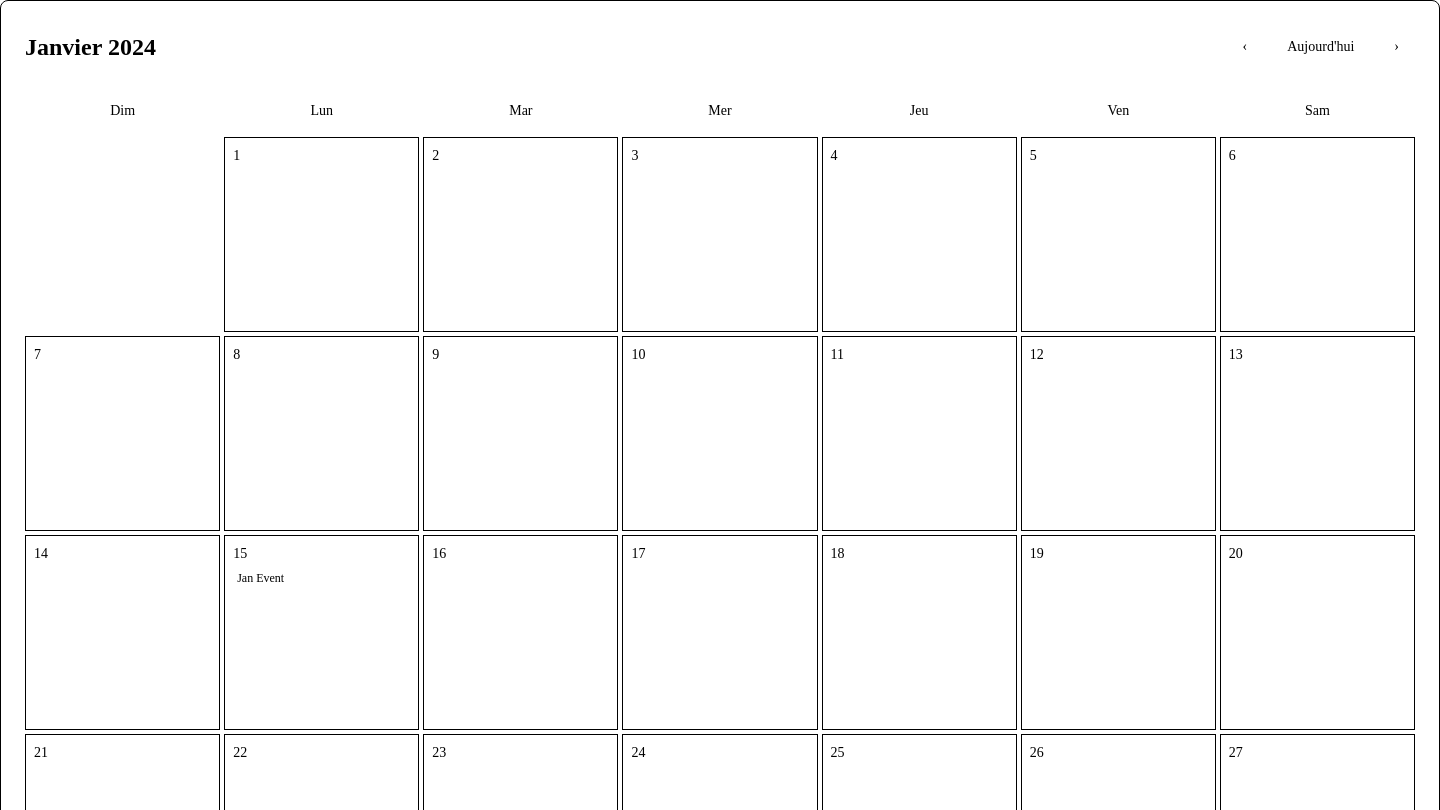
Scenario: Calendar Component › Edge Cases › handles events in different months
Check: the text "Jan Event" is shown, box x1=237 y1=571 x2=284 y2=585
# Navigate to February
Click the button "›" at (1397, 47), box x1=1378 y1=25 x2=1415 y2=69
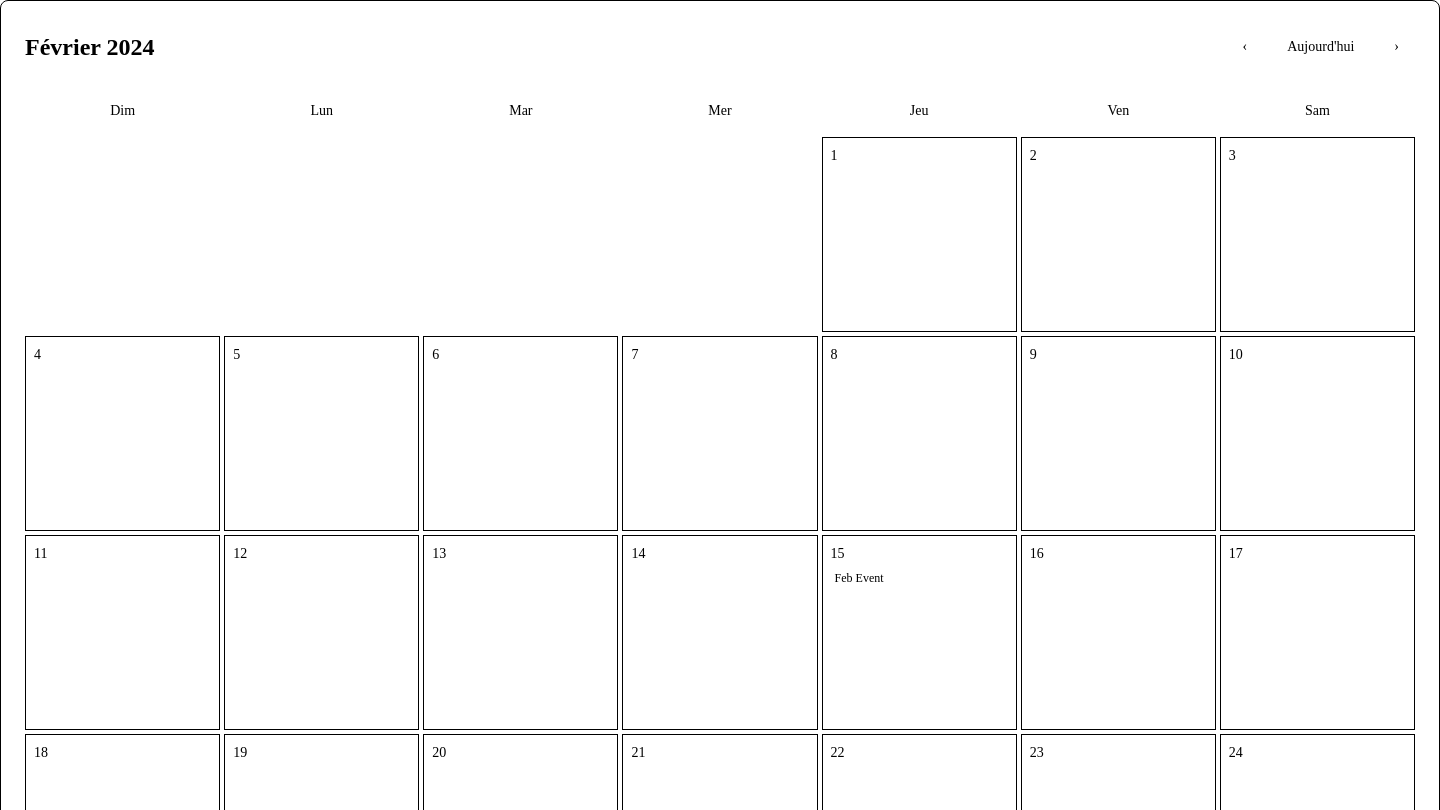
Check: the text "Feb Event" is shown, box x1=835 y1=571 x2=884 y2=585
